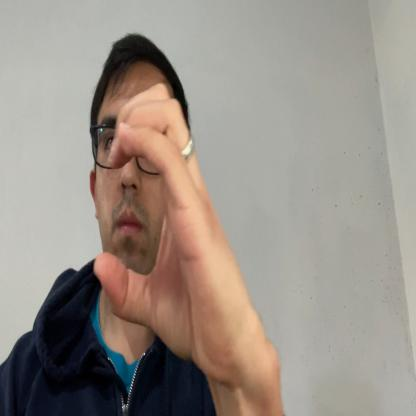C: (94, 83, 233, 380)
